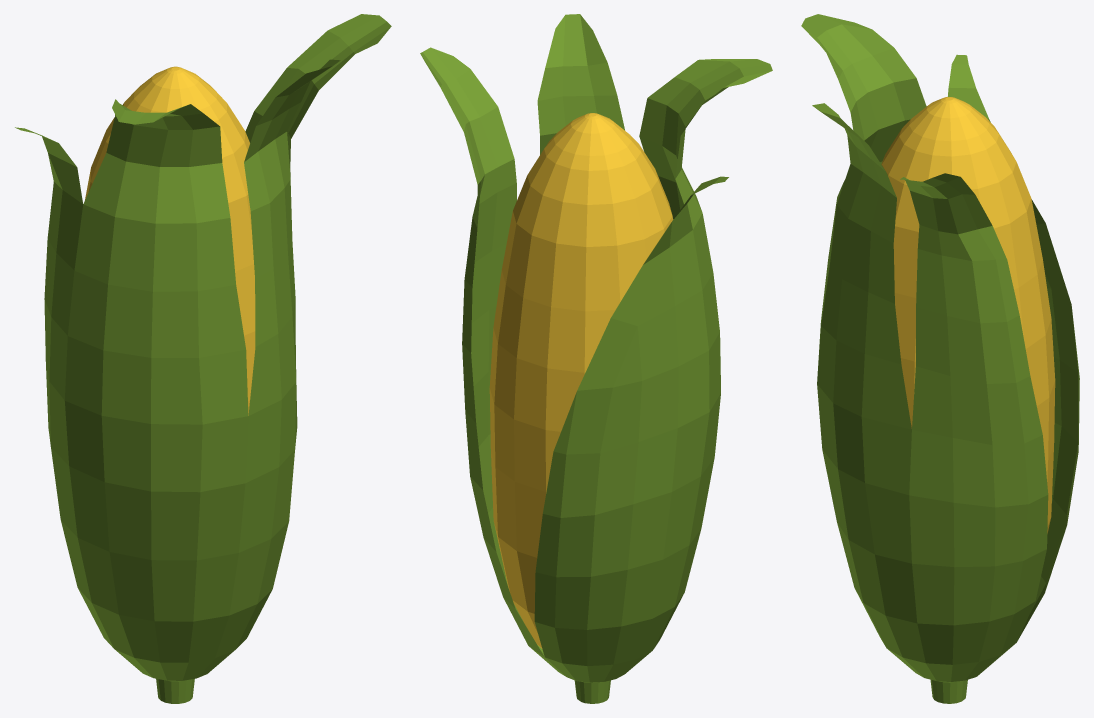
File: korn.fbx
3 renders of one model, left to right at view 1: azimuth 30°, elevation 25°; view 2: azimuth 150°, elevation 25°; view 3: azimuth 270°, elevation 25°, orthographic. The views are drawn at different scales.
Parts seen in each view (by area): view 1: korn_leaf, korn; view 2: korn_leaf, korn; view 3: korn_leaf, korn.
Part boxes in pixels (x1,y1,x2,y2): korn_leaf: [15, 14, 391, 703]; korn: [85, 66, 255, 415]; korn_leaf: [420, 14, 772, 703]; korn: [489, 113, 673, 648]; korn_leaf: [801, 14, 1079, 703]; korn: [881, 97, 1055, 533].
Bounding box in the file's own units: 149 × 271 × 108.
